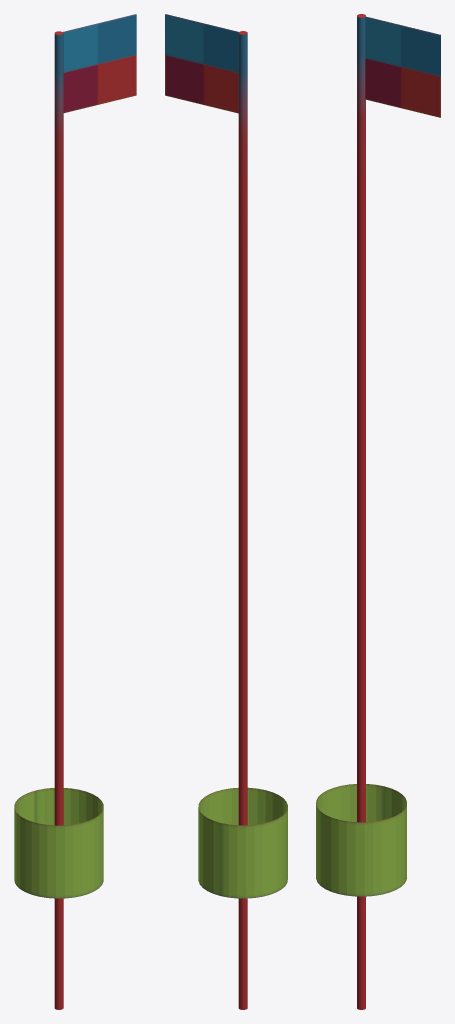
File: flag.fbx
The picture shows the model from 3 angles, left to right: view 1: azimuth 30°, elevation 25°; view 2: azimuth 150°, elevation 25°; view 3: azimuth 330°, elevation 25°; orthographic projection.
Parts seen in each view (by area): view 1: Flag, Goal; view 2: Flag, Goal; view 3: Flag, Goal.
Boxes of the visible parts, x1,y1,x2,y2 form: Flag: (54, 14, 136, 1009); Goal: (14, 788, 103, 898); Flag: (165, 14, 247, 1009); Goal: (198, 787, 287, 898); Flag: (357, 14, 440, 1009); Goal: (316, 784, 406, 896).
Bounding box in the file's own units: 75 × 600 × 50.
